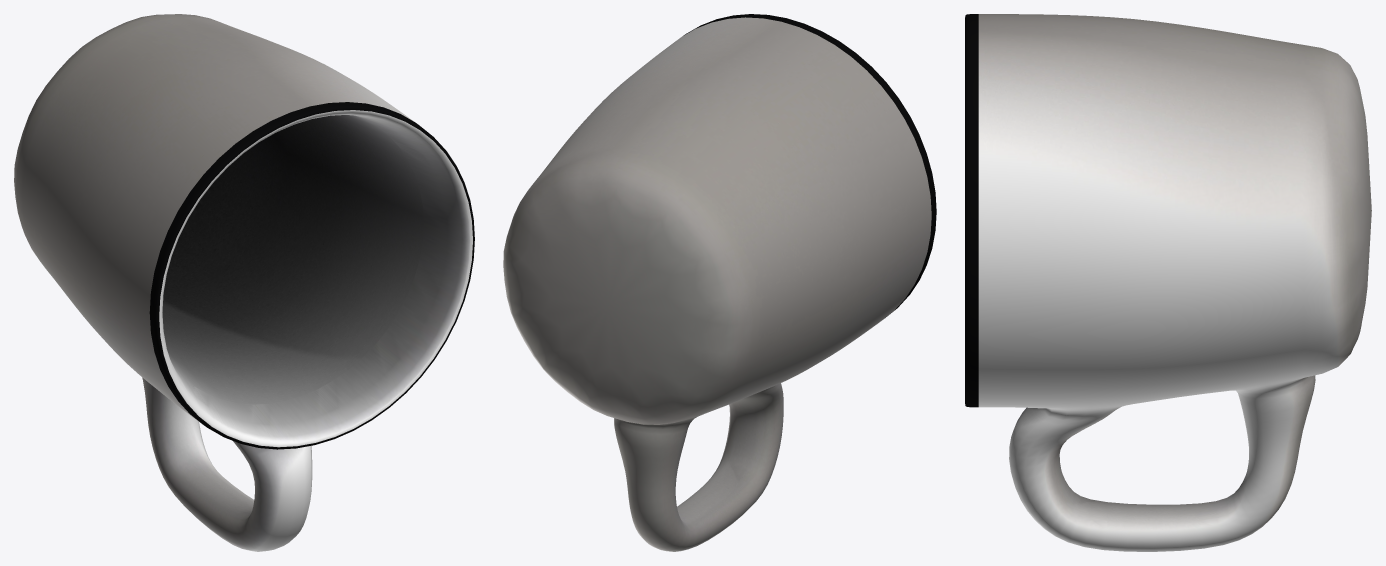
The model's file is mug.glb.
3 renders of one model, left to right at view 1: azimuth 30°, elevation 25°; view 2: azimuth 150°, elevation 25°; view 3: azimuth 270°, elevation 25°, orthographic. The views are drawn at different scales.
Visible parts, largest first — view 1: Mug.Bake; view 2: Mug.Bake; view 3: Mug.Bake.
Boxes of the visible parts, x1,y1,x2,y2 form: Mug.Bake: [14, 14, 474, 551]; Mug.Bake: [503, 14, 936, 551]; Mug.Bake: [965, 14, 1371, 551].
Bounding box in the file's own units: 19.23 × 27.82 × 19.87.
1 material, 1 textured.
